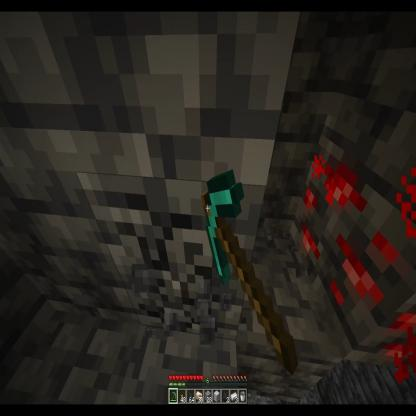redstone ore: (295, 140, 416, 371)
